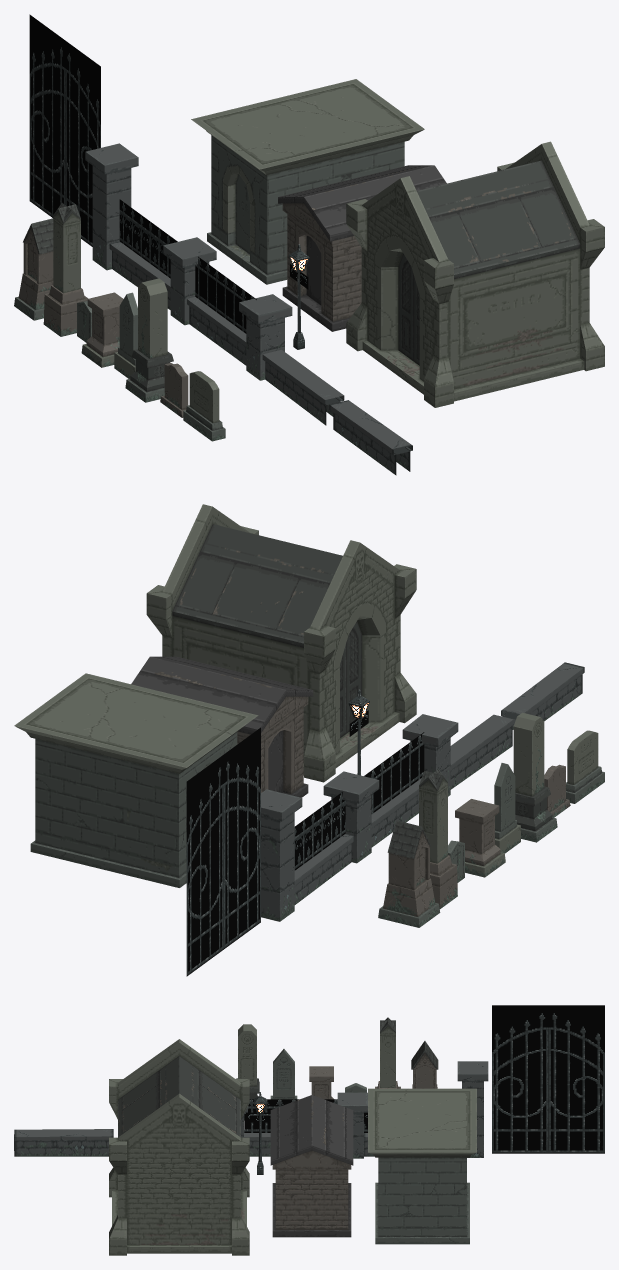
File: LowPolyGraveyardModels.fbx
The picture shows the model from 3 angles, top to bottom: view 1: azimuth 30°, elevation 25°; view 2: azimuth 150°, elevation 25°; view 3: azimuth 270°, elevation 25°; orthographic projection. The views are drawn at different scales.
Parts seen in each view (by area): view 1: MausLarge3, Maus2, FenceGate, Maus1, FenceTallColumn, Grave3, Grave6, Fence3, Fence4, Grave4, FenceShortColumnAlt, FenceShortColumn (+9 smaller); view 2: MausLarge3, Maus2, FenceGate, Maus1, Grave4, FenceTallColumn, Grave6, Grave3, Grave2, Fence4, FenceShortColumn, Fence3 (+8 smaller); view 3: MausLarge3, FenceGate, Maus2, Maus1, Fence3, FenceTallColumn, Grave6, Grave3, FenceShortColumn, Grave4, Grave5, Grave2 (+3 smaller).
Part boxes in pixels (x1,y1,x2,y2): MausLarge3: (346,141,604,407); Maus2: (191,79,424,284); FenceGate: (29,14,100,246); Maus1: (278,165,446,331); FenceTallColumn: (85,143,138,270); Grave3: (43,203,88,336); Grave6: (125,278,173,402); Fence3: (329,400,412,475); Fence4: (262,349,344,425); Grave4: (14,218,53,320); FenceShortColumnAlt: (239,294,292,380); FenceShortColumn: (163,237,216,325); MausLarge3: (146,504,416,782); Maus2: (14,673,258,887); FenceGate: (186,727,260,976); Maus1: (131,656,313,797); Grave4: (378,820,440,927); FenceTallColumn: (261,789,302,921); Grave6: (513,712,557,842); Grave3: (419,769,457,908); Grave2: (455,799,505,877); Fence4: (450,714,513,789); FenceShortColumn: (323,771,379,863); Fence3: (501,662,584,729); MausLarge3: (109,1039,249,1255); FenceGate: (492,1005,604,1153); Maus2: (368,1088,476,1244); Maus1: (270,1095,353,1237); Fence3: (14,1129,113,1156); FenceTallColumn: (457,1061,488,1157); Grave6: (236,1024,259,1120); Grave3: (375,1017,400,1088); FenceShortColumn: (337,1092,367,1158); Grave4: (411,1041,438,1088); Grave5: (270,1049,297,1099); Grave2: (309,1066,333,1099).
Bounding box in the file's own units: 3944 × 1932 × 6662.
Materials: 10 (10 with a texture image).
